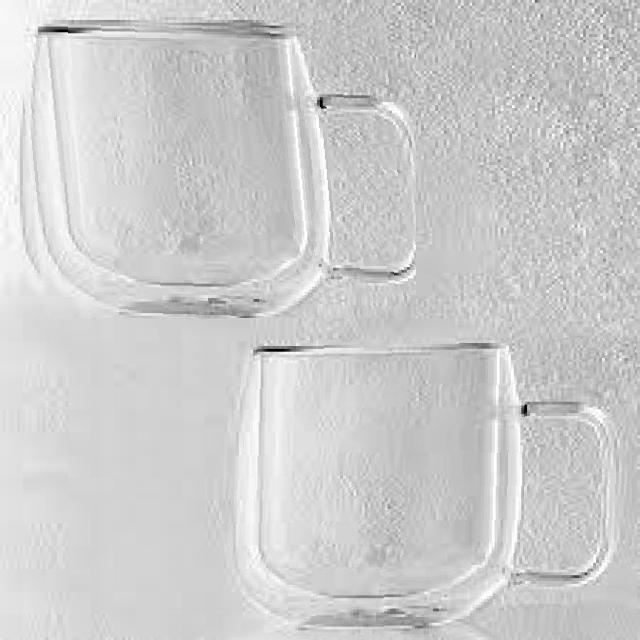Glass: (223, 338, 636, 640), (16, 20, 416, 318)
